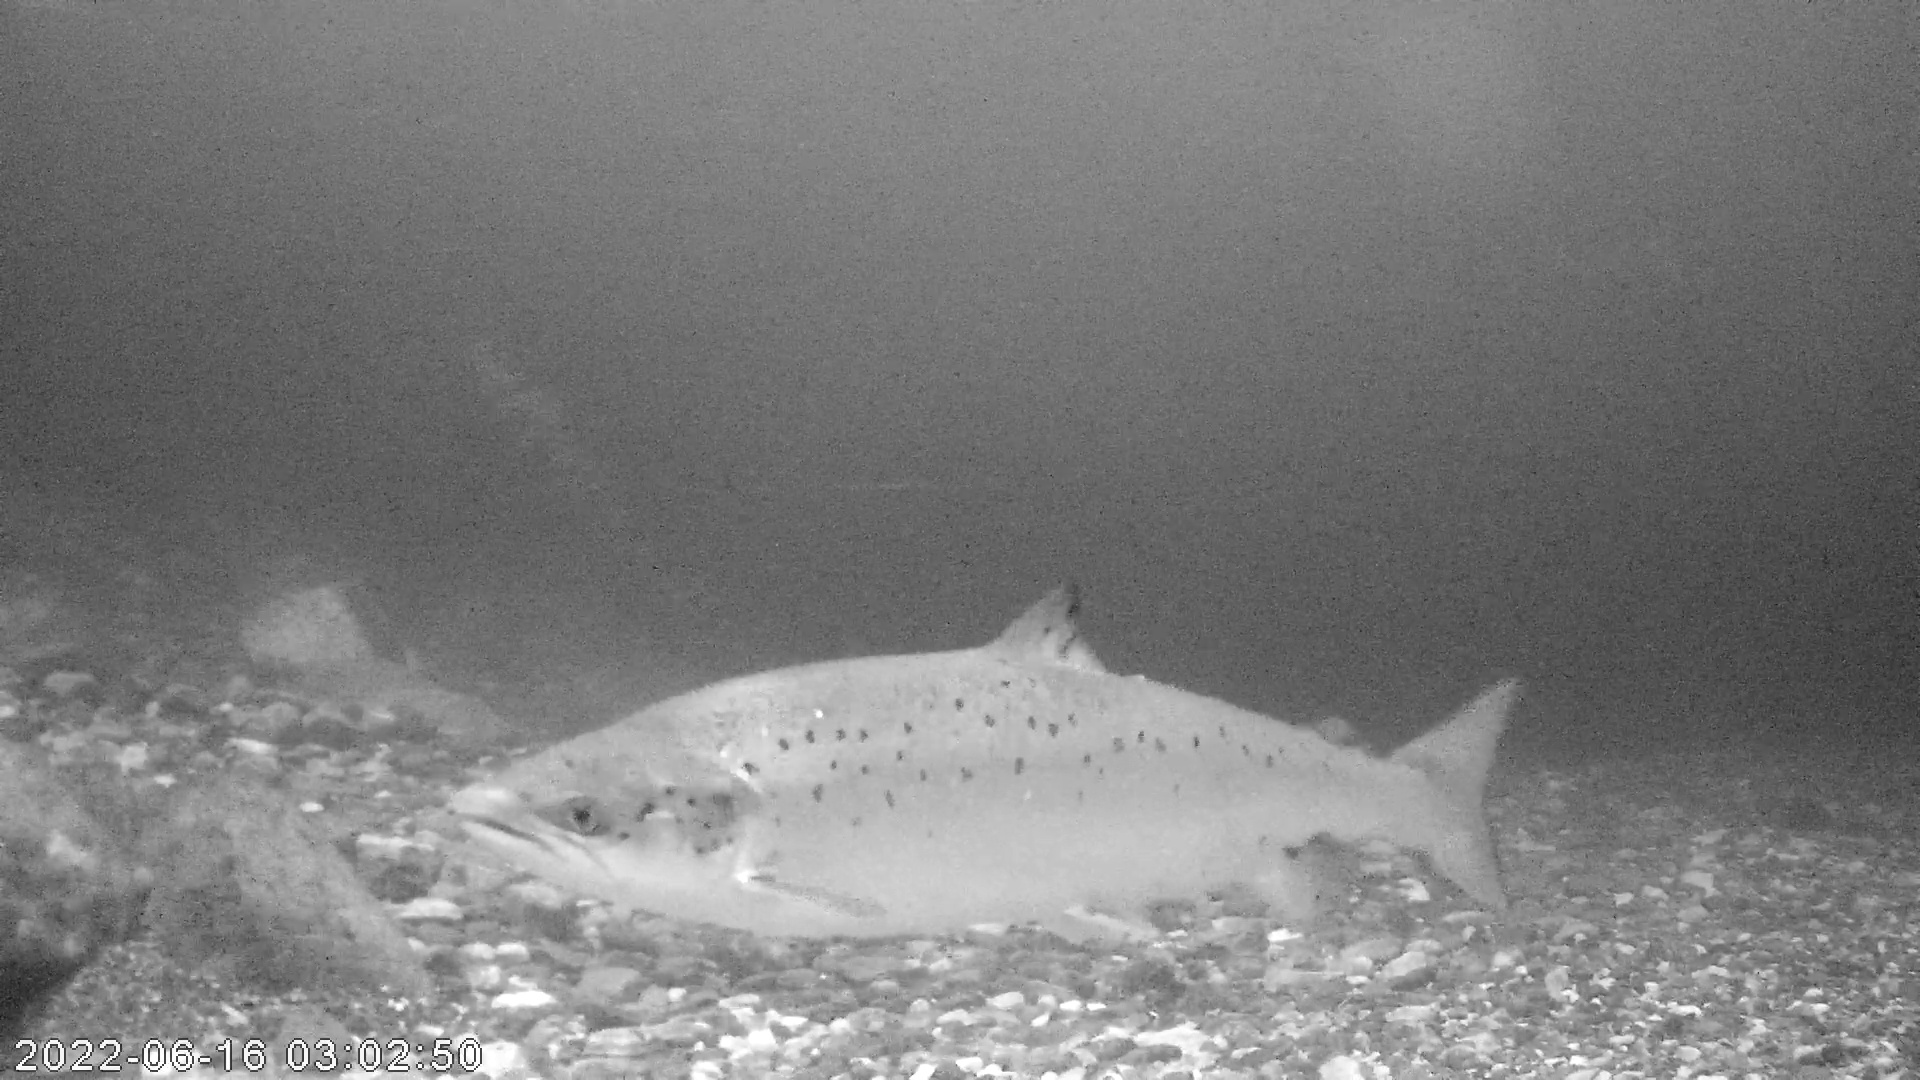salmon: (444, 574, 1519, 942)
